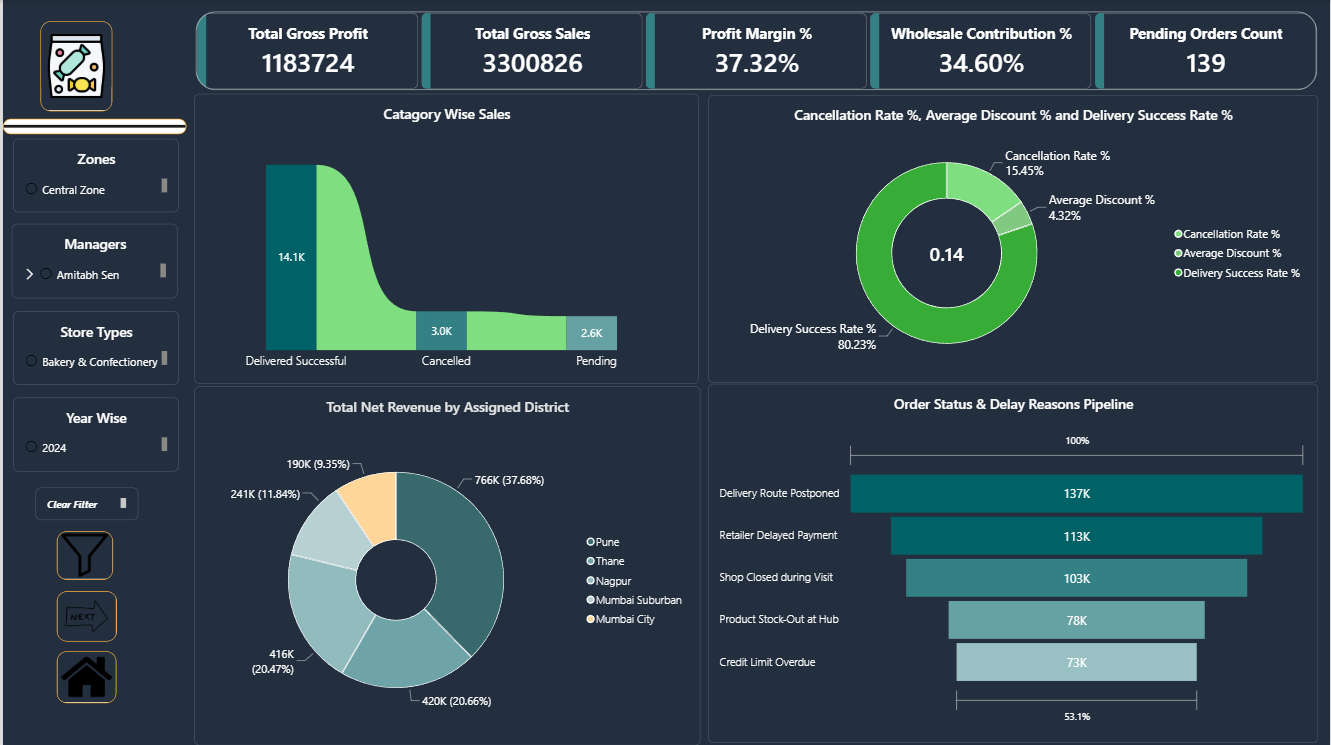

This screenshot's page, from the dashboard's own definition file:
{"tool":"powerbi","page":{"name":"MANAGER HIERARCHY","canvas":[1920,1080],"ordinal":1},"visuals":[{"type":"cardVisual","fields":{"Data":["Fact_Sales_Orders.Total Gross Profit","Fact_Sales_Orders.Total Gross Sales","Fact_Sales_Orders.Profit Margin %","Fact_Sales_Orders.Wholesale Contribution %","Fact_Sales_Orders.Pending Orders Count"]},"box":[278,16,1624,114],"z":1000},{"type":"ribbonChart","title":"Catagory Wise Sales","fields":{"Category":["Fact_Sales_Orders.Order Status"],"Y":["Sum(Fact_Sales_Orders.Order Quantity Units)"]},"box":[277.5,135,730,420],"z":2000},{"type":"funnel","title":"Order Status & Delay Reasons Pipeline","fields":{"Category":["Fact_Sales_Orders.Status Remarks"],"Y":["Fact_Sales_Orders.Lost Revenue"]},"box":[1020,555,883.3,520],"z":3000},{"type":"donutChart","fields":{"Y":["Fact_Sales_Orders.Cancellation Rate %","Fact_Sales_Orders.Average Discount %","Fact_Sales_Orders.Delivery Success Rate %"]},"box":[1020,138.3,883.3,416.7],"z":4000},{"type":"pieChart","fields":{"Category":["Dim_Sales_Team.Assigned District"],"Y":["Fact_Sales_Orders.Total Net Revenue"]},"box":[277.5,560,732.5,520],"z":5000},{"type":"image","box":[54.3,30,104.3,130],"z":6000},{"type":"shape","box":[0,171.4,265.7,22.1],"z":8000},{"type":"listSlicer","title":"Zones","fields":{"Values":["Dim_Sales_Team.Zone"]},"box":[14,200,240,106],"z":9000},{"type":"listSlicer","title":"Managers","fields":{"Values":["Dim_Management_Hierarchy.Manager Name","Dim_Management_Hierarchy.Reporting Manager Name"]},"box":[13,324,240,108],"z":10000},{"type":"listSlicer","title":"Store Types","fields":{"Values":["Dim_Customers.Store Type"]},"box":[14,450,240,106],"z":11000},{"type":"listSlicer","title":"Year Wise","fields":{"Values":["Fact_Sales_Orders.Order Date.Variation.Date Hierarchy.Year"]},"box":[14,575,240,107],"z":12000},{"type":"image","box":[78.3,943.3,86.7,75],"z":13000},{"type":"image","box":[78.3,768.3,81.7,70],"z":14000},{"type":"image","box":[78.3,856.7,87.1,72.9],"z":15000},{"type":"textbox","box":[46.7,706.7,148.6,47.1],"z":17000}]}

Visuals, with their boxes in screenshot pixels (x1, y1, x2, y2), scaled from the page's 1920x1080 canvas onto the 1331x745 screenshot:
cardVisual - Fact_Sales_Orders.Total Gross Profit x Fact_Sales_Orders.Total Gross Sales: region(193, 11, 1319, 90)
"Catagory Wise Sales" ribbonChart: region(192, 93, 698, 383)
"Order Status & Delay Reasons Pipeline" funnel: region(707, 383, 1319, 742)
donutChart - Fact_Sales_Orders.Cancellation Rate % x Fact_Sales_Orders.Average Discount %: region(707, 95, 1319, 383)
pieChart - Dim_Sales_Team.Assigned District x Fact_Sales_Orders.Total Net Revenue: region(192, 386, 700, 744)
image: region(38, 21, 110, 110)
shape: region(0, 118, 184, 133)
"Zones" listSlicer: region(10, 138, 176, 211)
"Managers" listSlicer: region(9, 223, 175, 298)
"Store Types" listSlicer: region(10, 310, 176, 384)
"Year Wise" listSlicer: region(10, 397, 176, 470)
image: region(54, 651, 114, 702)
image: region(54, 530, 111, 578)
image: region(54, 591, 115, 641)
textbox: region(32, 487, 135, 520)
